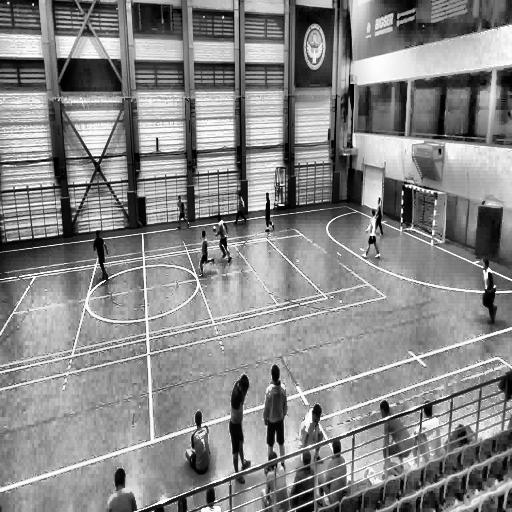ball: (212, 225, 216, 233)
player: (229, 374, 252, 482), (264, 364, 286, 466), (186, 410, 212, 477), (362, 210, 381, 260), (482, 259, 496, 325), (212, 214, 231, 261), (94, 230, 110, 282), (199, 230, 212, 275), (234, 192, 247, 224), (176, 196, 189, 228), (264, 192, 274, 233), (374, 196, 384, 237)
